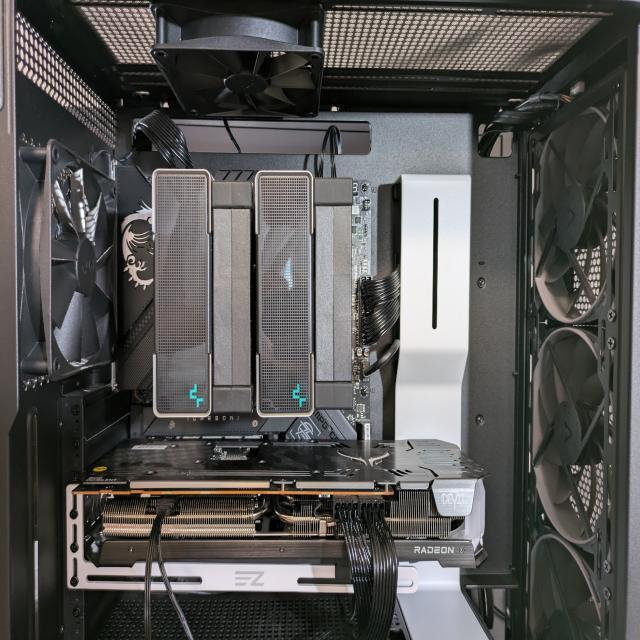CPU_Fan: (152, 168, 354, 418)
Mainboard: (116, 166, 370, 442)
